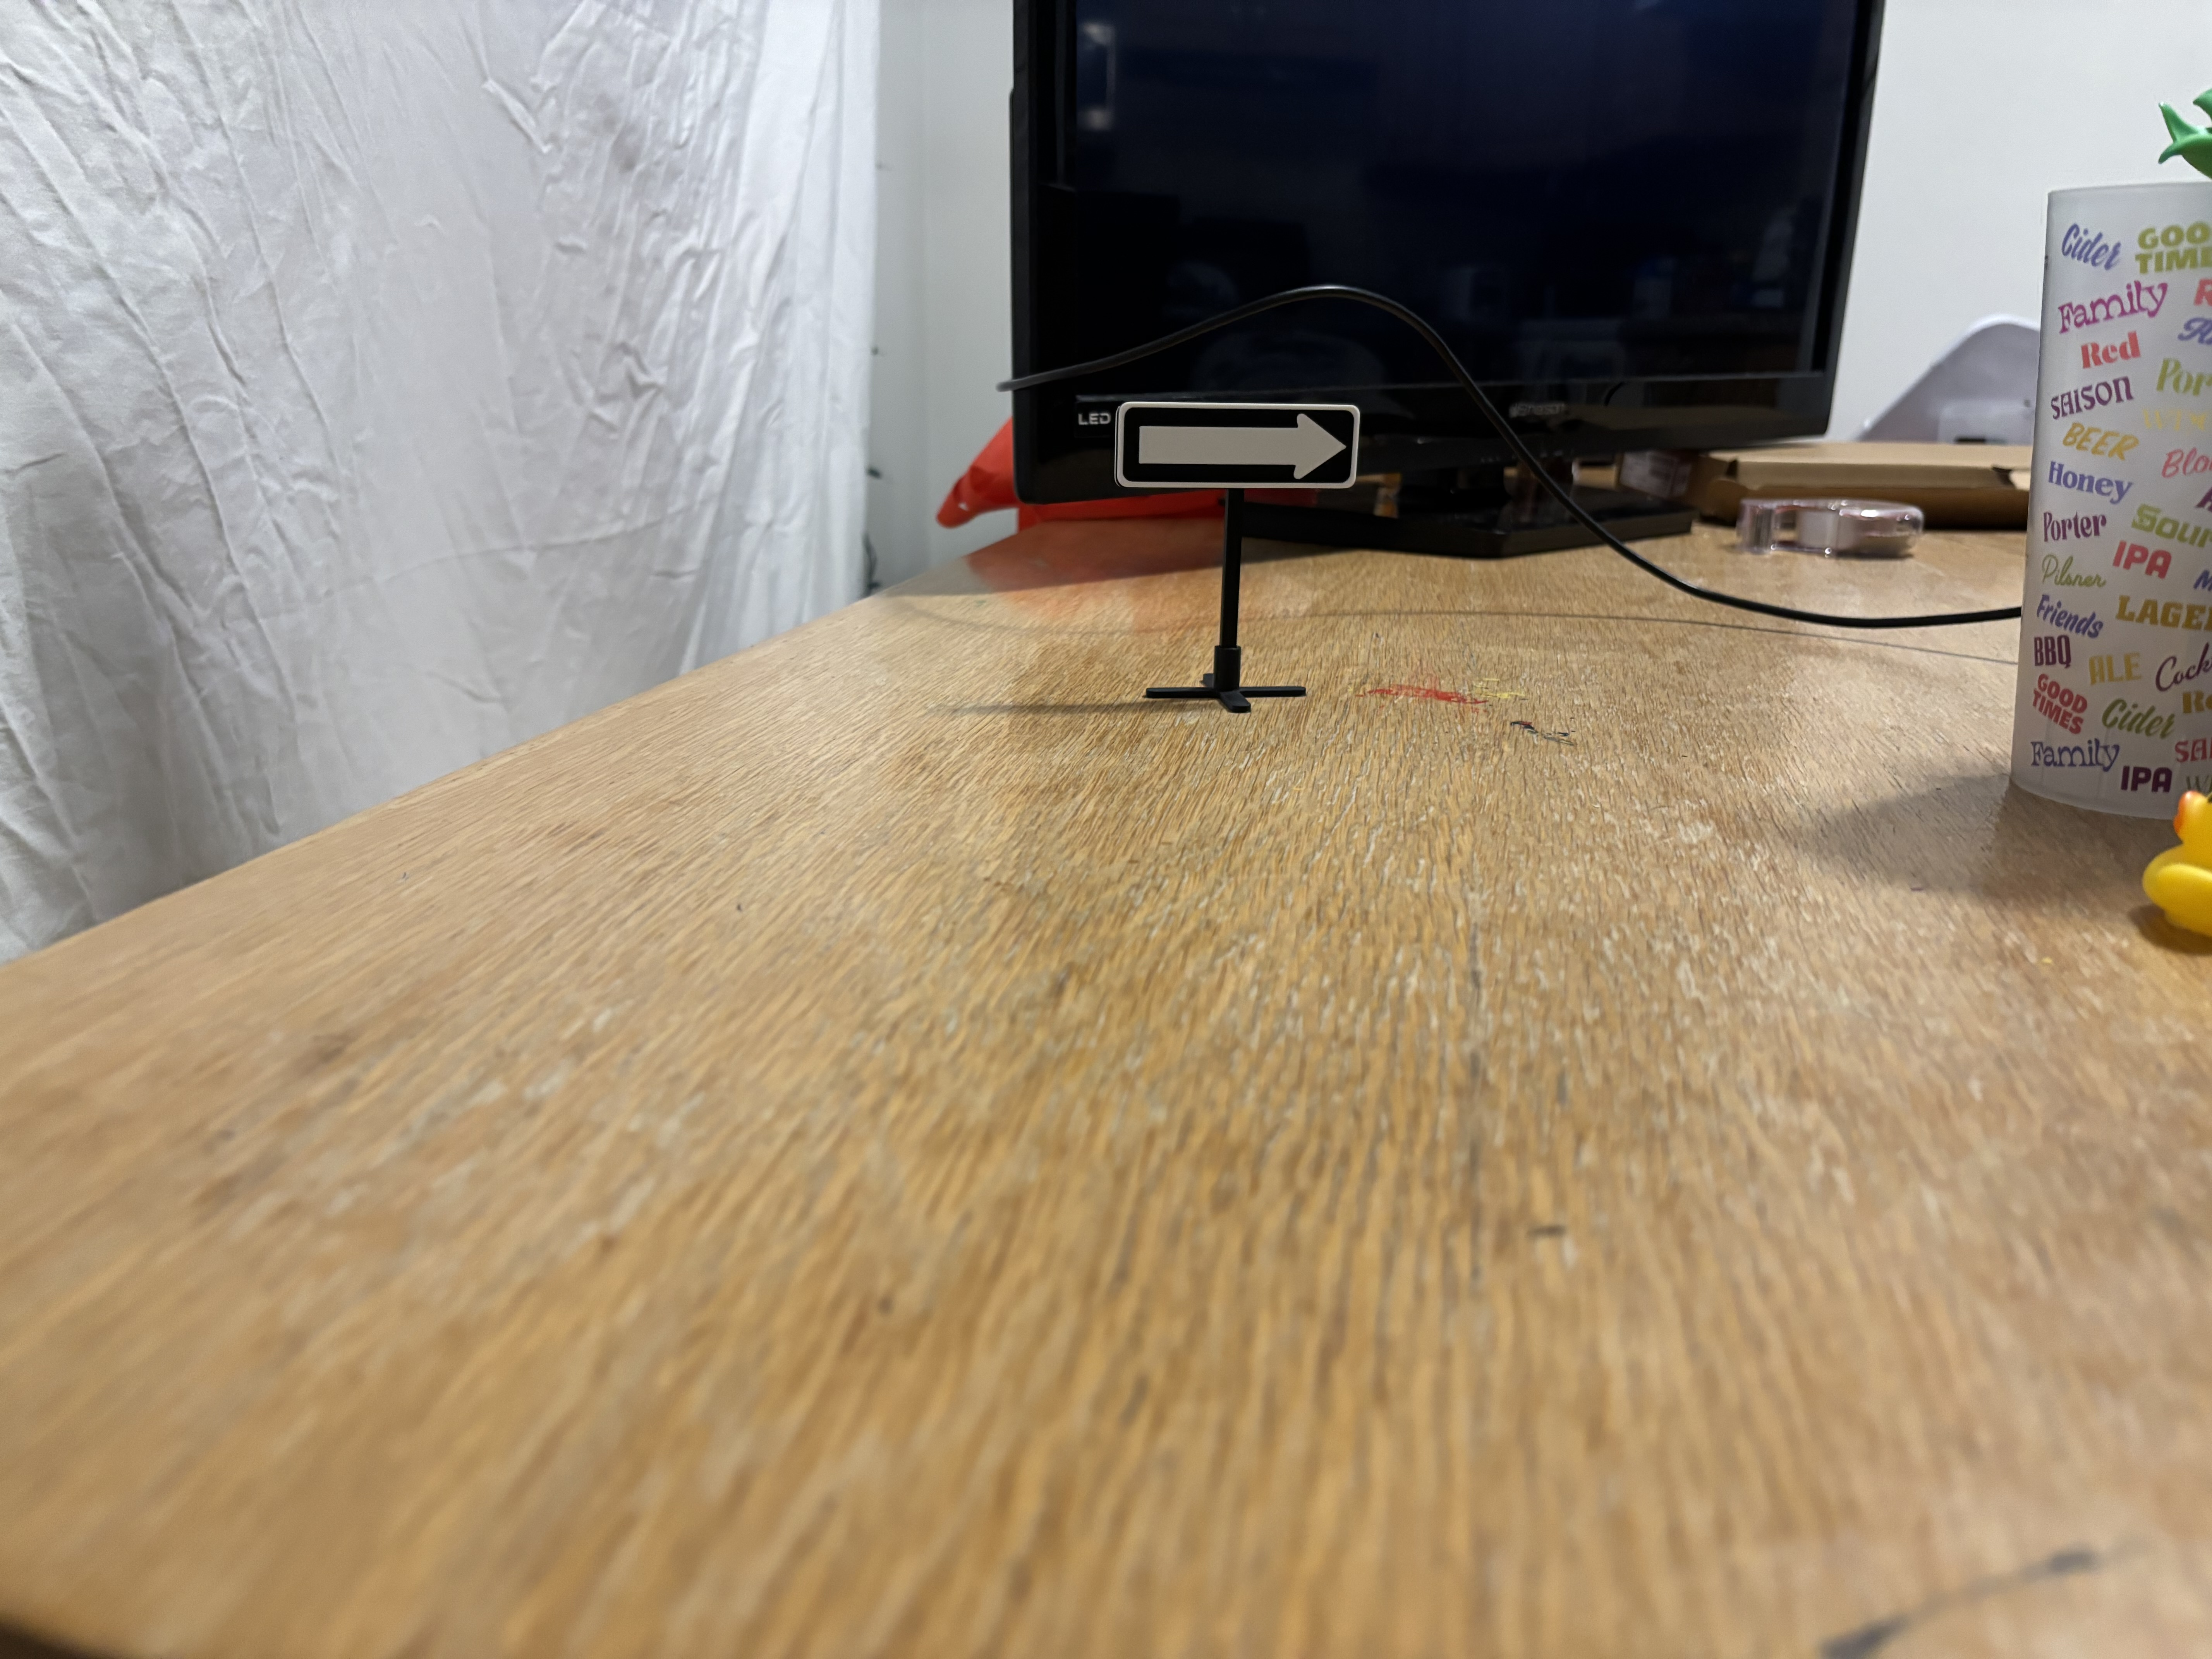sign_oneway_right: (1111, 403, 1369, 484)
